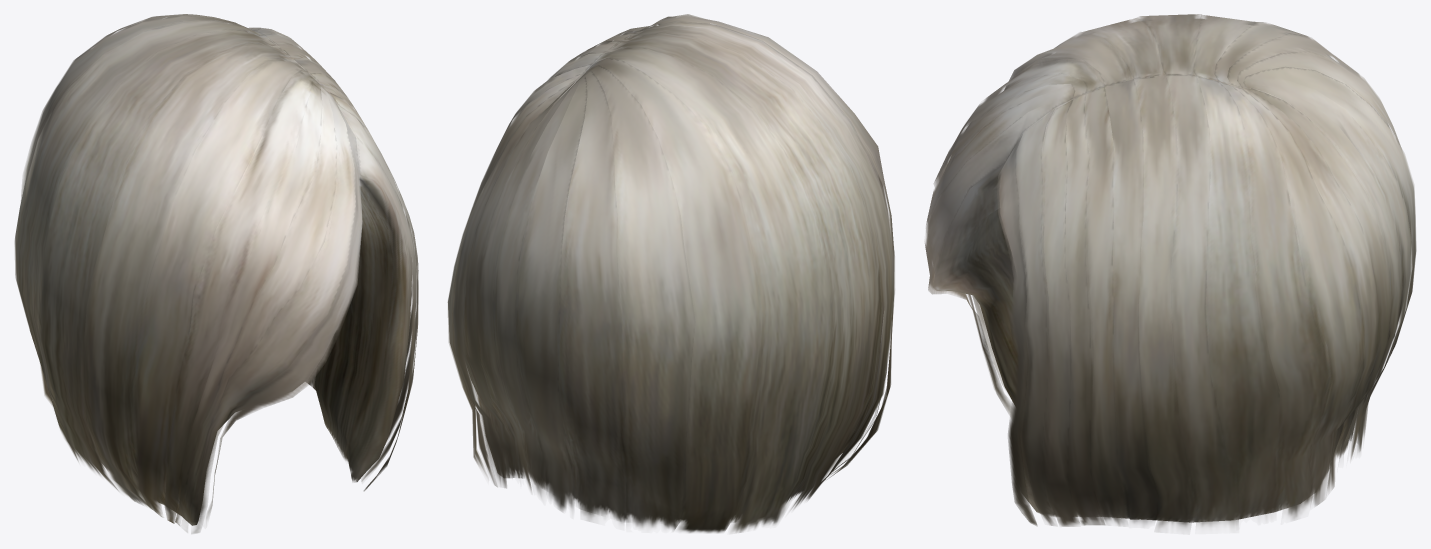
Rendered from Hair_bob.glb.
The picture shows the model from 3 angles, left to right: view 1: azimuth 30°, elevation 25°; view 2: azimuth 150°, elevation 25°; view 3: azimuth 270°, elevation 25°; orthographic projection. The views are drawn at different scales.
Parts seen in each view (by area): view 1: Human.bob02; view 2: Human.bob02; view 3: Human.bob02.
Boxes of the visible parts, x1,y1,x2,y2 form: Human.bob02: [14, 14, 418, 533]; Human.bob02: [447, 14, 894, 532]; Human.bob02: [924, 14, 1416, 529].
Bounding box in the file's own units: 0.186 × 0.2319 × 0.225.
Materials: 1 (1 with a texture image).
